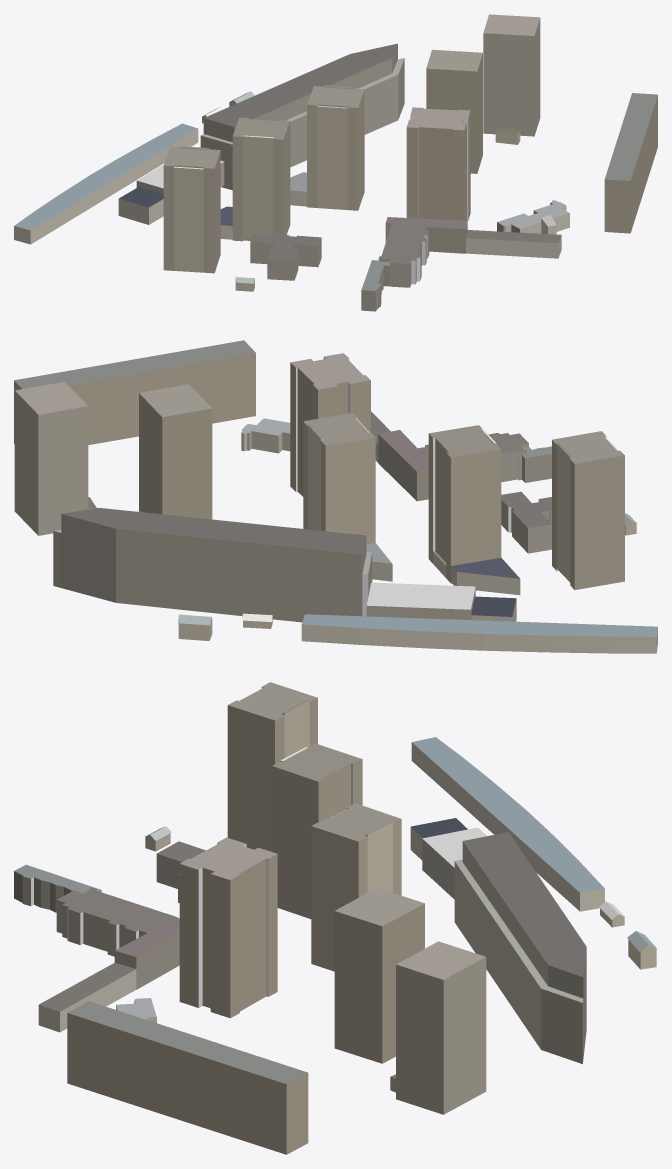
3 views of the same model, one above another, from view 1: azimuth 30°, elevation 25°; view 2: azimuth 150°, elevation 25°; view 3: azimuth 270°, elevation 25° (orthographic). The views are drawn at different scales.
Visible parts, largest first — view 1: tuile; view 2: tuile; view 3: tuile.
Part boxes in pixels (bbox=[...]): tuile: bbox=[14, 14, 657, 311]; tuile: bbox=[14, 340, 657, 653]; tuile: bbox=[14, 682, 656, 1154].
Bounding box in the file's own units: 330 × 59.71 × 233.
